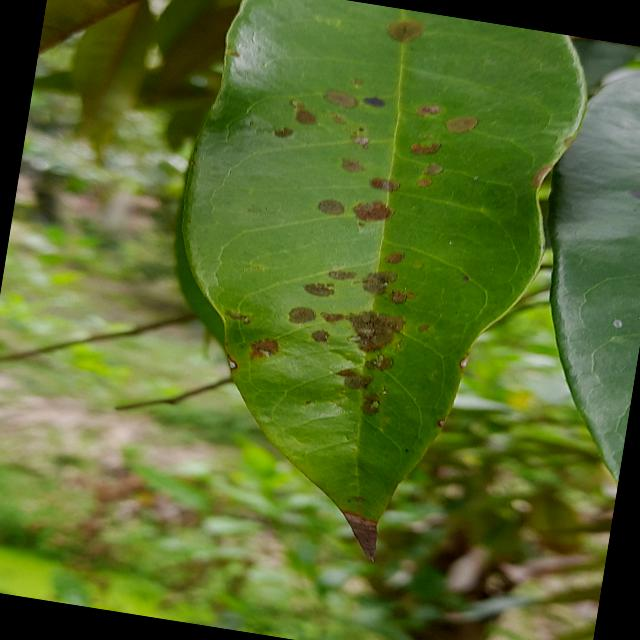Algal Leaf Spot: (118, 0, 605, 601)
